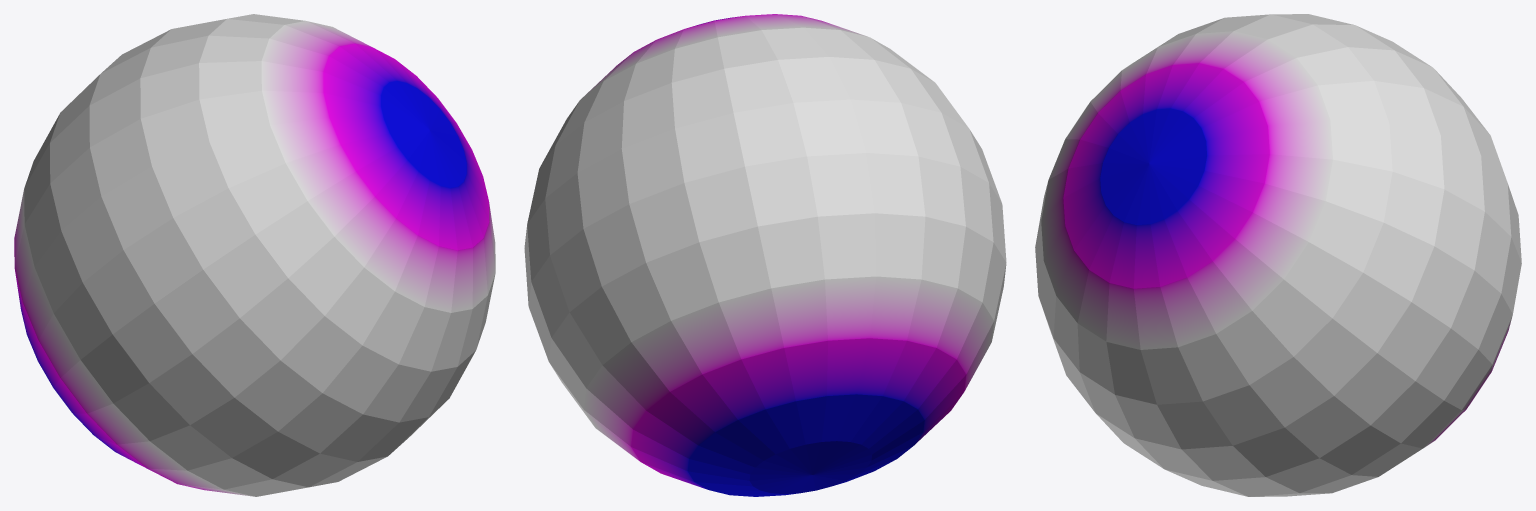
File: eclipse_z.obj
3 renders of one model, left to right at view 1: azimuth 30°, elevation 25°; view 2: azimuth 150°, elevation 25°; view 3: azimuth 270°, elevation 25°, orthographic.
Visible parts, largest first — view 1: ZMesh; view 2: ZMesh; view 3: ZMesh.
Part boxes in pixels (bbox=[...]): ZMesh: bbox=[14, 14, 495, 496]; ZMesh: bbox=[524, 14, 1006, 496]; ZMesh: bbox=[1035, 14, 1521, 496].
Bounding box in the file's own units: 1.49 × 1.49 × 1.49.
